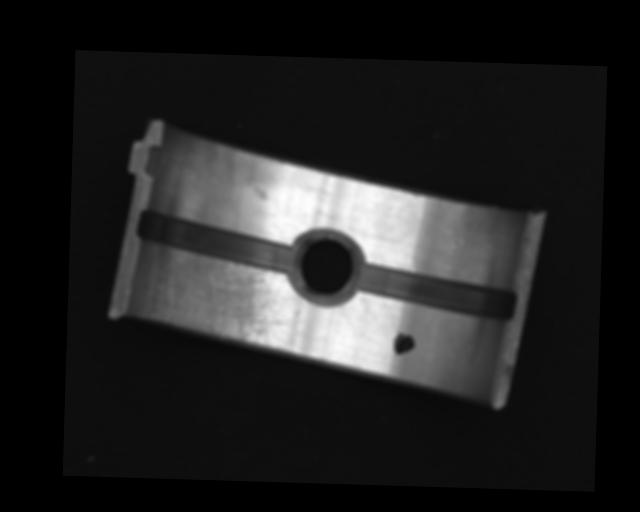blot: (393, 331, 415, 356)
bruise: (253, 185, 270, 201)
gap: (134, 207, 304, 274), (356, 262, 519, 321)
hole: (293, 230, 360, 303)
nick: (394, 213, 417, 273), (339, 302, 355, 335)
scratch: (132, 245, 292, 357)
